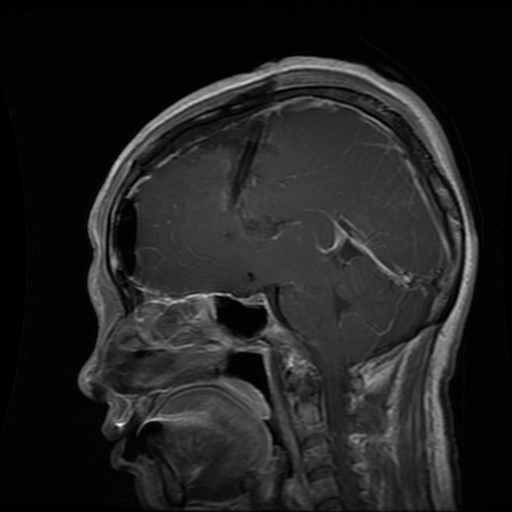glioma: (194, 122, 265, 211)
